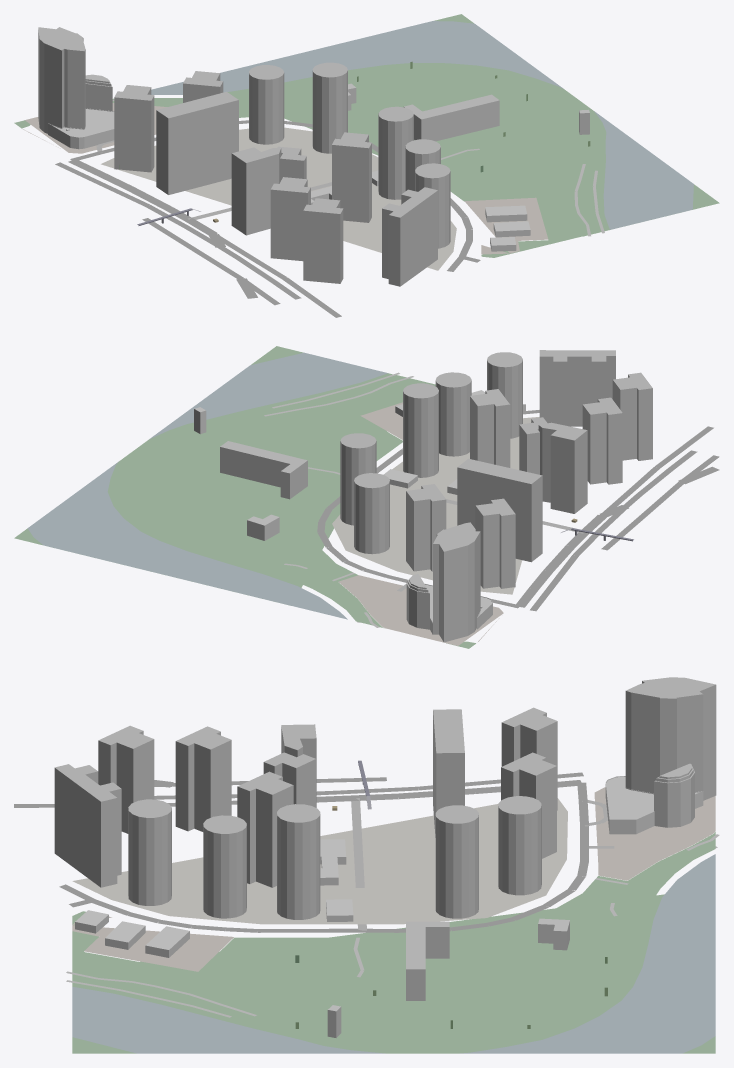
3 renders of one model, top to bottom at view 1: azimuth 30°, elevation 25°; view 2: azimuth 150°, elevation 25°; view 3: azimuth 270°, elevation 25°, orthographic. The views are drawn at different scales.
Size of the model in its own units: 522 by 96.66 by 549.
